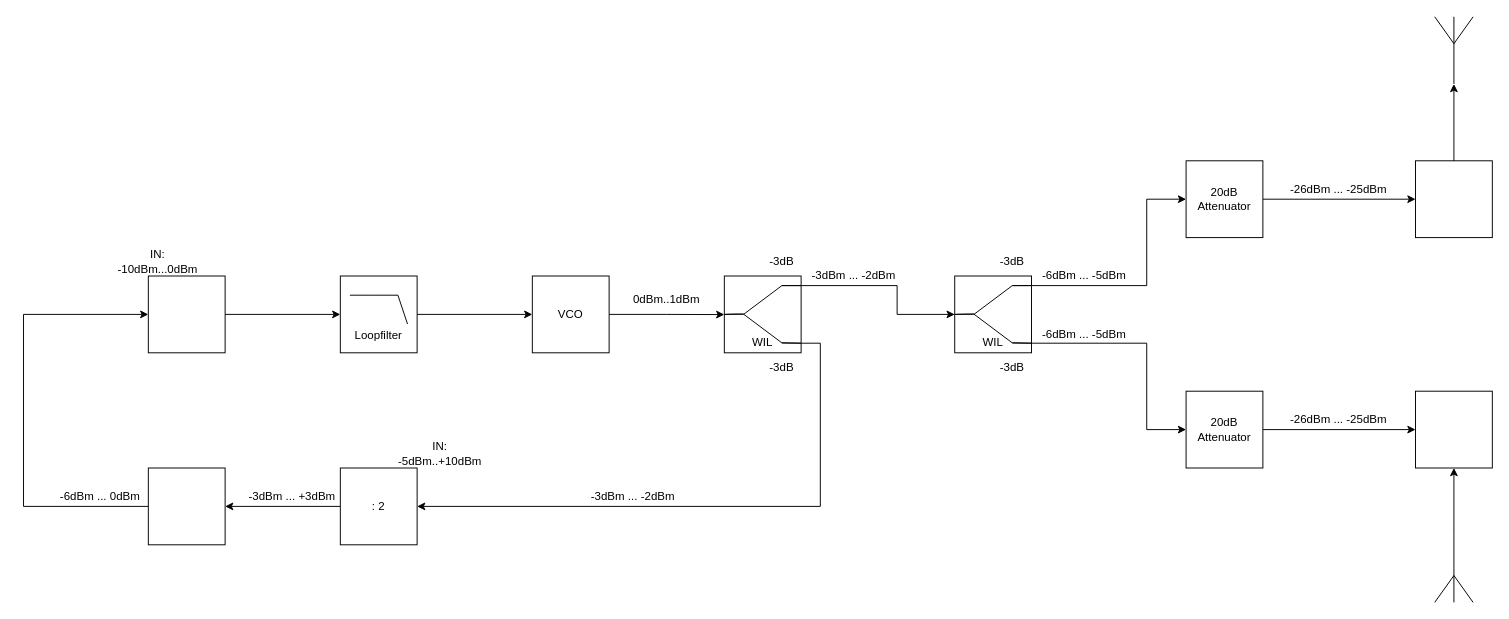
Some shapes in this 1509 by 619 pixel diagram are drawn without their labels. Here are the shapes that lost their labels. From the top down, the centre of each, then its label:
[1453,199]: TX
[186,314]: PLL ADF4169
[1453,429]: RX
[186,506]: 3dB Attenuator
